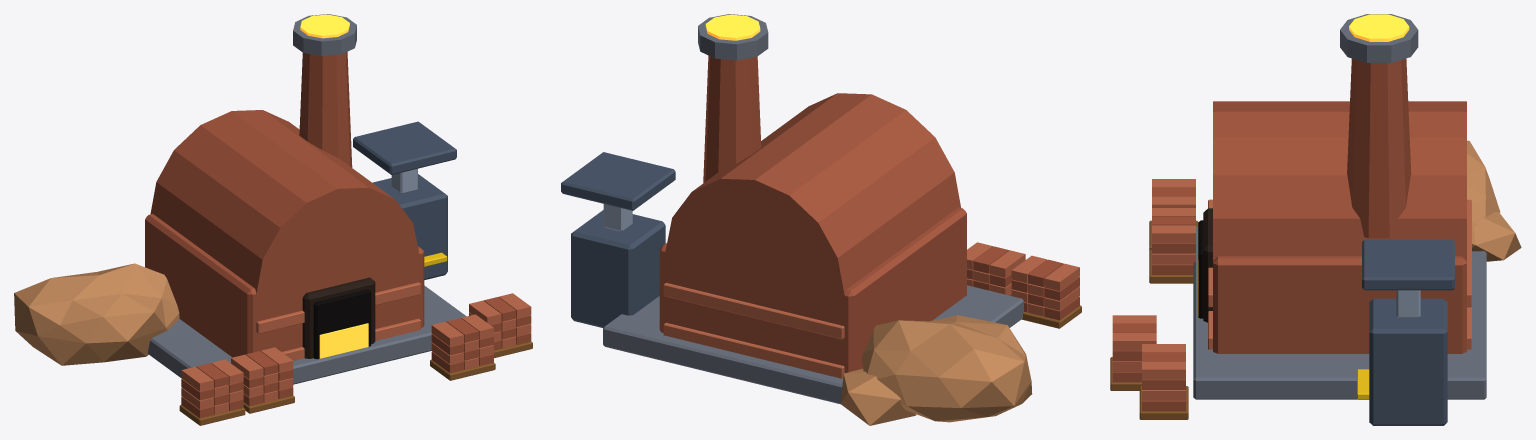
The model's file is brickworks.glb.
3 renders of one model, left to right at view 1: azimuth 30°, elevation 25°; view 2: azimuth 150°, elevation 25°; view 3: azimuth 270°, elevation 25°, orthographic. The views are drawn at different scales.
Parts seen in each view (by area): view 1: g_m_a5543a, g_m_c58a5b, g_m_c0694a, g_m_6b7280, g_m_475569, g_m_0c0a09, g_m_fb923c_e, g_m_8a5a2b, g_m_2a1d17, g_m_94a3b8; view 2: g_m_a5543a, g_m_c58a5b, g_m_475569, g_m_6b7280, g_m_c0694a, g_m_fb923c_e, g_m_94a3b8, g_m_8a5a2b; view 3: g_m_a5543a, g_m_475569, g_m_6b7280, g_m_c0694a, g_m_c58a5b, g_m_8a5a2b, g_m_fb923c_e, g_m_2a1d17, g_m_94a3b8, g_m_0c0a09, g_m_facc15.
Boxes of the visible parts, <box> form: g_m_a5543a: <box>145,52,531,418</box>; g_m_c58a5b: <box>14,263,179,365</box>; g_m_c0694a: <box>181,282,531,414</box>; g_m_6b7280: <box>147,14,466,384</box>; g_m_475569: <box>353,121,456,279</box>; g_m_0c0a09: <box>313,289,371,359</box>; g_m_fb923c_e: <box>300,14,368,358</box>; g_m_8a5a2b: <box>179,341,532,425</box>; g_m_2a1d17: <box>302,277,375,358</box>; g_m_94a3b8: <box>391,168,417,193</box>; g_m_a5543a: <box>659,55,1079,372</box>; g_m_c58a5b: <box>840,315,1032,425</box>; g_m_475569: <box>561,152,675,327</box>; g_m_6b7280: <box>603,14,1023,404</box>; g_m_c0694a: <box>663,242,1079,378</box>; g_m_fb923c_e: <box>705,14,760,40</box>; g_m_94a3b8: <box>603,204,632,231</box>; g_m_8a5a2b: <box>1021,305,1081,328</box>; g_m_a5543a: <box>1112,58,1466,411</box>; g_m_475569: <box>1362,239,1454,425</box>; g_m_6b7280: <box>1193,14,1486,399</box>; g_m_c0694a: <box>1112,179,1471,400</box>; g_m_c58a5b: <box>1467,140,1521,261</box>; g_m_8a5a2b: <box>1110,220,1198,419</box>; g_m_fb923c_e: <box>1198,14,1409,315</box>; g_m_2a1d17: <box>1203,208,1212,322</box>; g_m_94a3b8: <box>1396,290,1420,317</box>; g_m_0c0a09: <box>1198,220,1203,318</box>; g_m_facc15: <box>1357,369,1369,399</box>.
Bounding box in the file's own units: 11.53 × 7.86 × 8.42.
